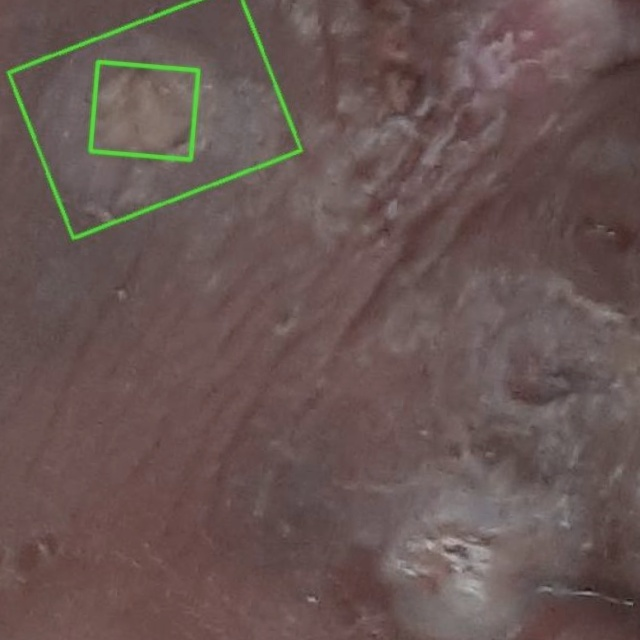Eczema: (8, 0, 300, 238), (90, 61, 198, 159)
